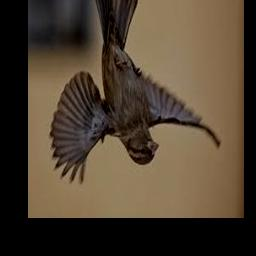Sparrow: (50, 0, 220, 185)
